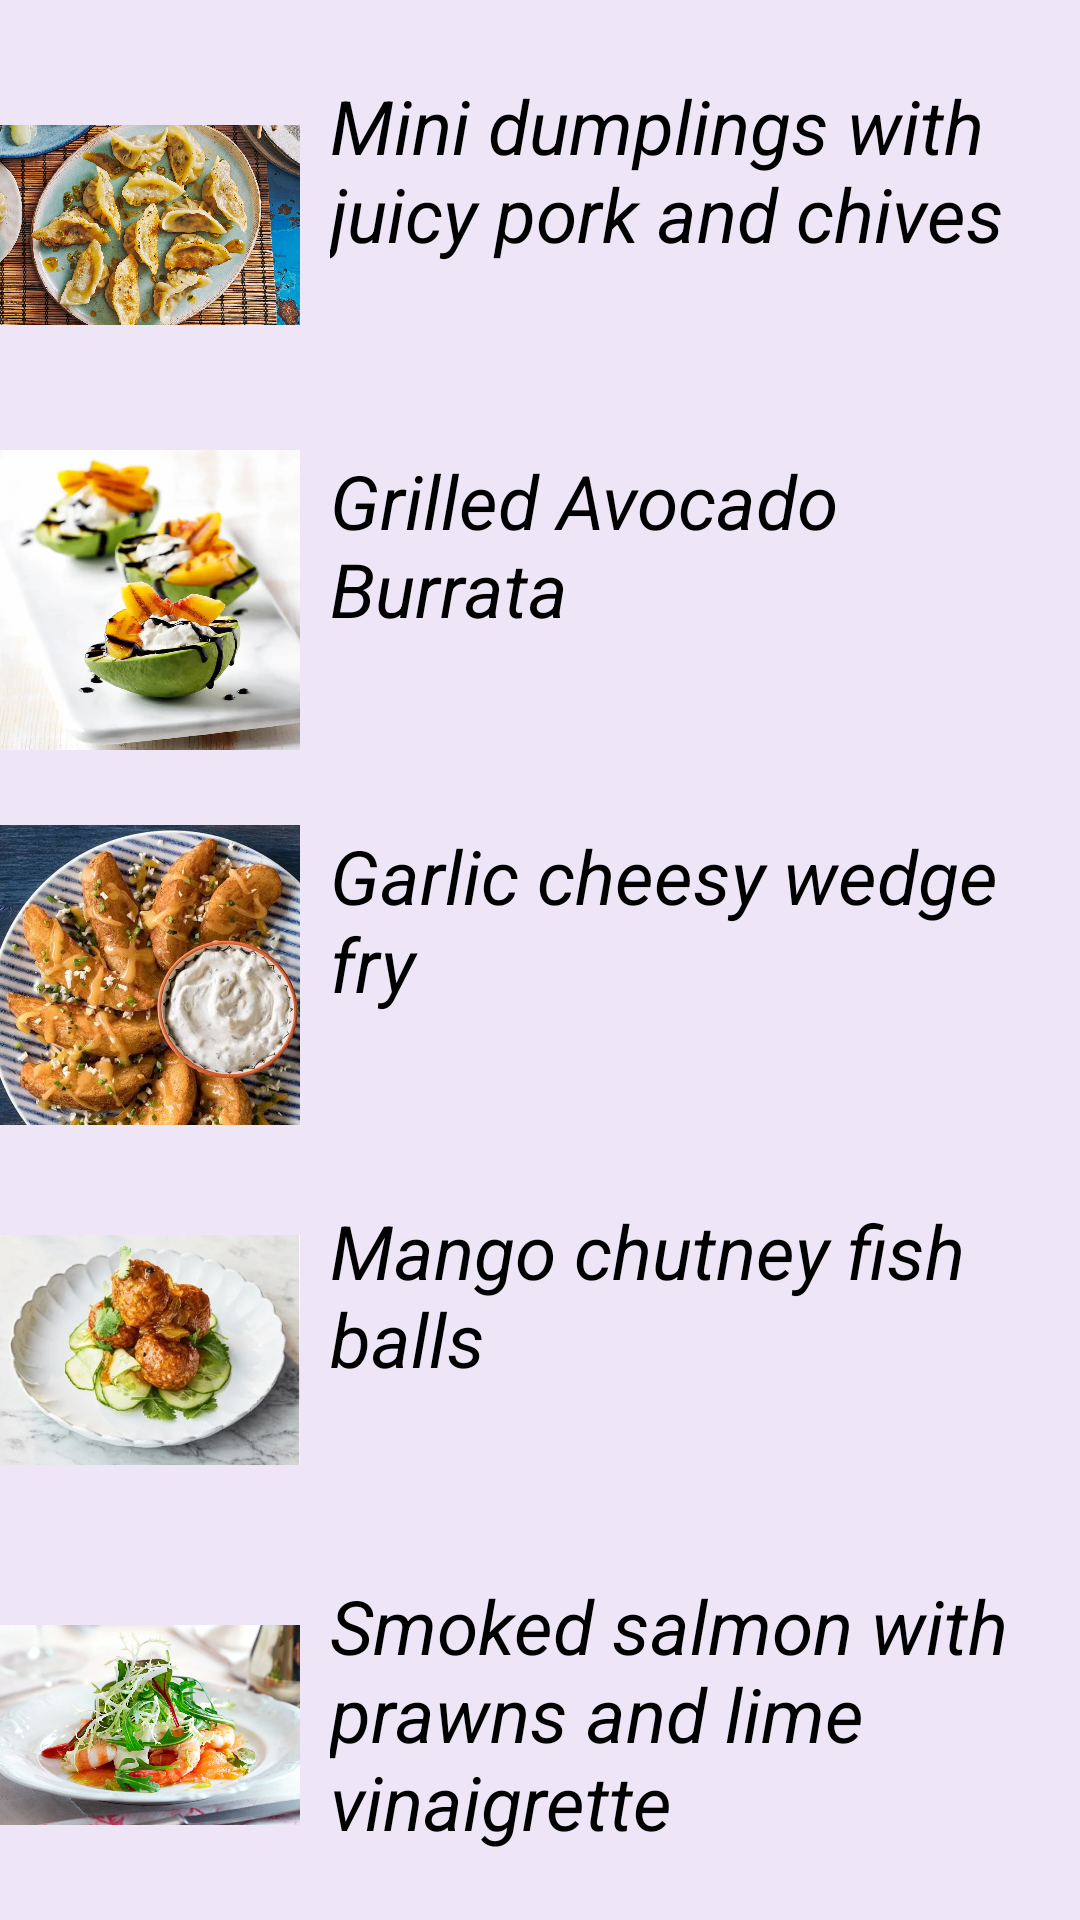

Point at icon controls on the screen. Image size 1080 x 1920, points as point (x, y).
starter: point (150, 225), point (150, 600), point (150, 975), point (150, 1350), point (150, 1725)
